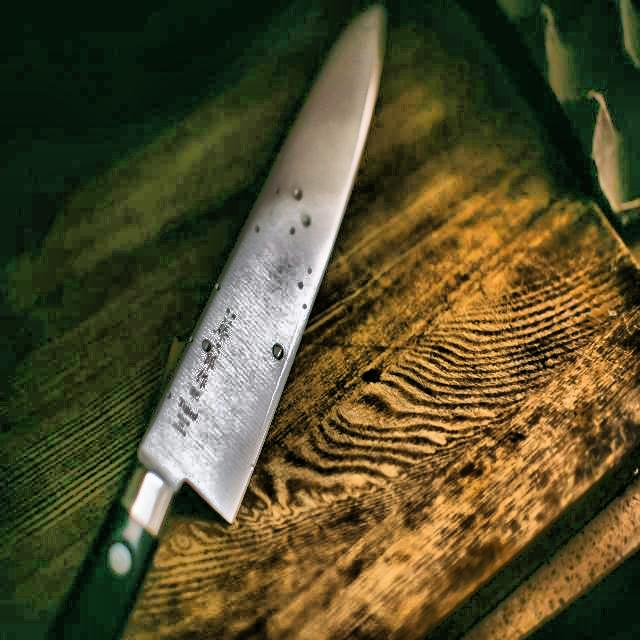knife: (78, 5, 398, 632)
